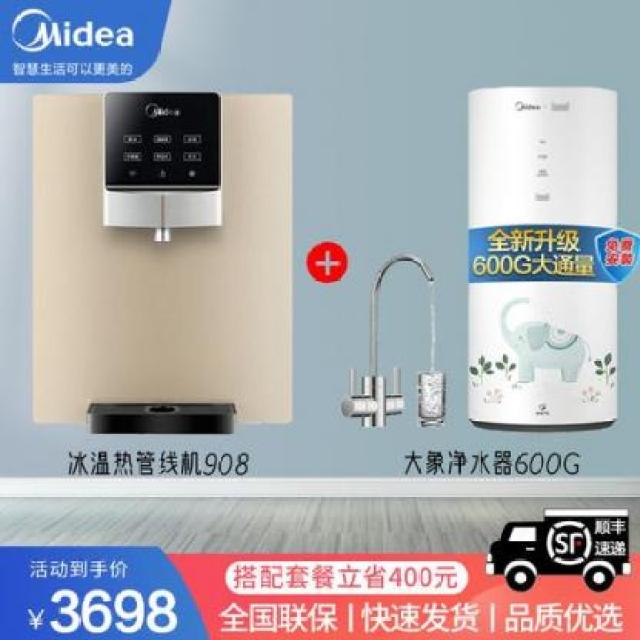cooler: (31, 89, 292, 437), (466, 84, 619, 432)
